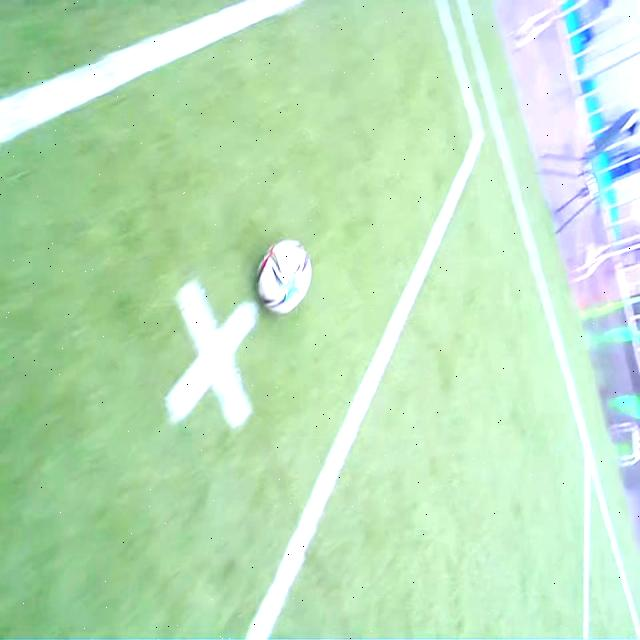ball: (257, 242, 310, 314)
